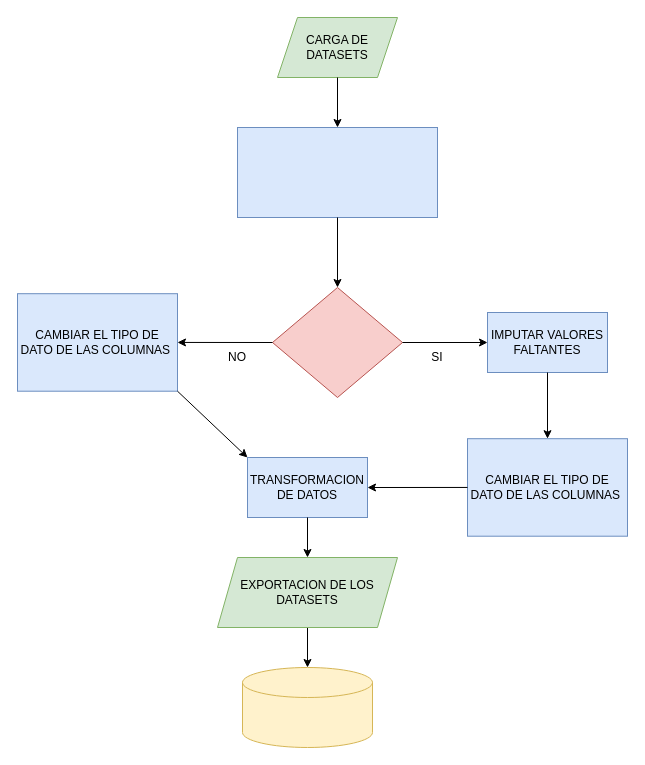
The diagram is 645 pixels wide and 765 high, and some of its shapes have lost their labels. Here are the shapes that lost their labels. From the top down, the centre of each, then its label:
(337,172): VISUALIZAR LA INFORMACIÓN GENERAL DE LOS DATAFRAME
(337,342): ¿HAY VALORES FALTANTES?
(307,707): CREACION DATA WHAREHOUSE
